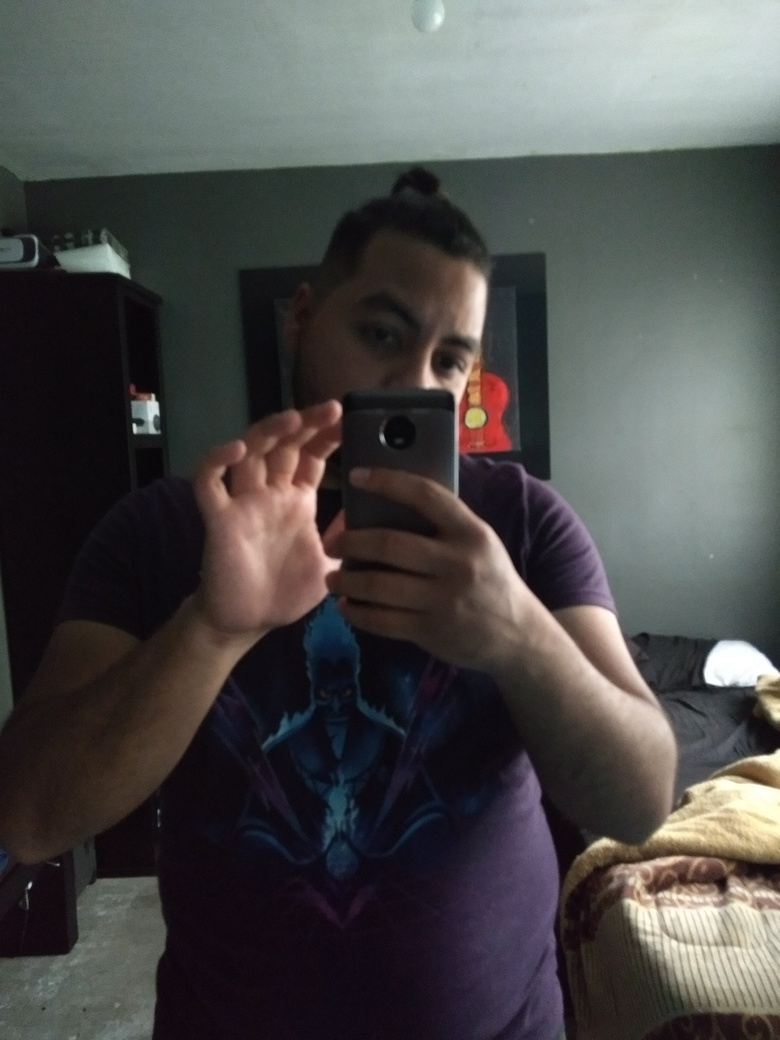Yoshi: (265, 166, 600, 487)
